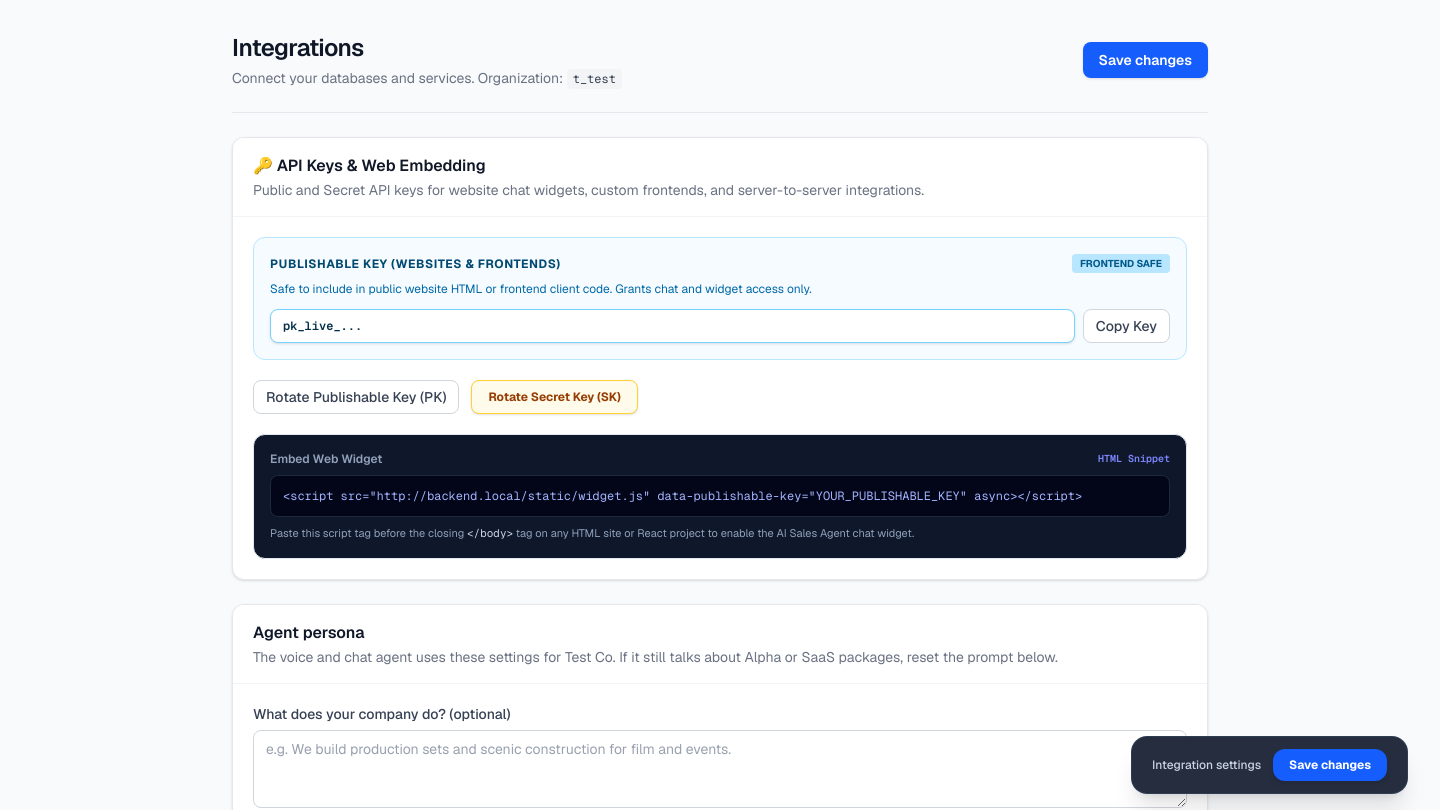
Test case: AdminIntegrations — save() must not clobber the prompt (F05) › accepts the server prompt when there is nothing unsaved to lose
Click the button "Save changes" in the row of "t_test".
click(1145, 60)  # box [1082, 42, 1208, 78]
(page scrolled)
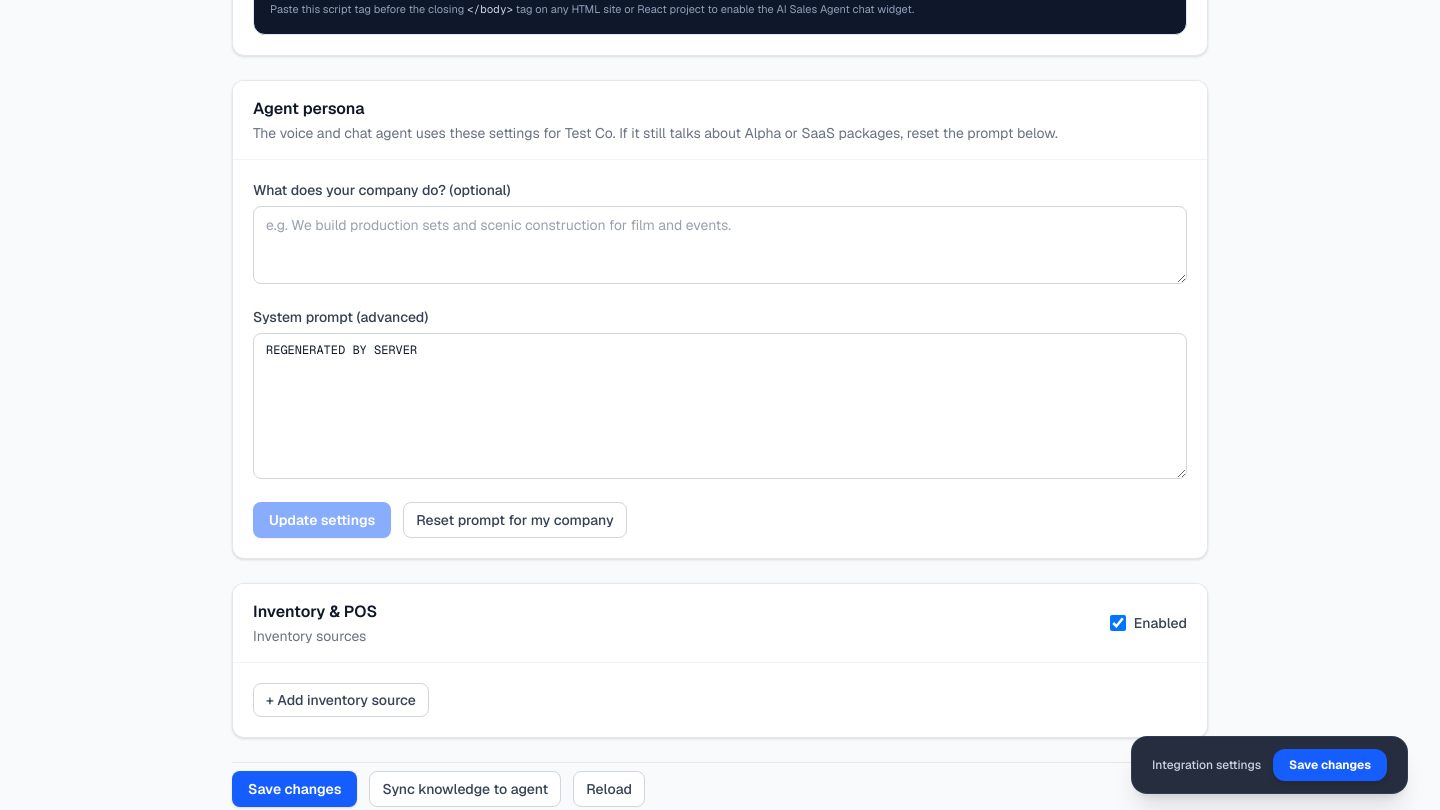
Expected: the text box showing "REGENERATED BY SERVER" is shown, [253, 332, 1187, 478]
